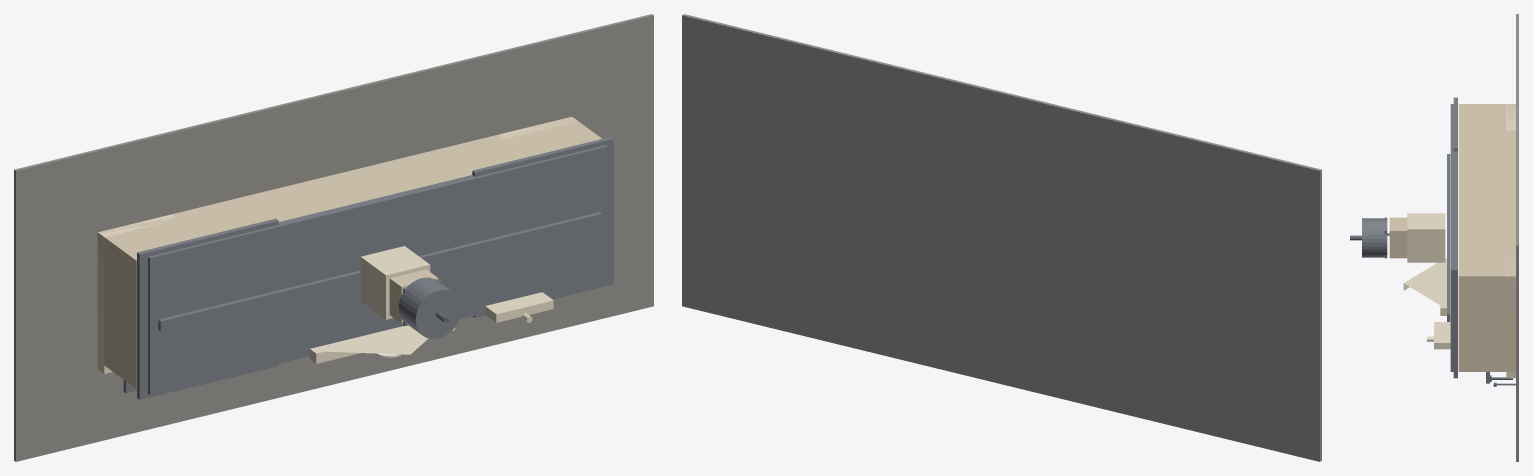
Rendered from east-london-railway-station-1950-pastport.glb.
The picture shows the model from 3 angles, left to right: view 1: azimuth 30°, elevation 25°; view 2: azimuth 150°, elevation 25°; view 3: azimuth 270°, elevation 25°; orthographic projection. The views are drawn at different scales.
Visible parts, largest first — view 1: Ground, Main roof, Main station, Roof ridge, Left roof, Tower dome, Clock tower, Right roof, Left entrance block, Pediment triangle, Side pediment, Pediment base (+1 smaller); view 2: Ground; view 3: Main station, Clock tower, Main roof, Ground, Pediment triangle, Tower dome, Right roof, Bell tower base, Roof ridge, Side pediment, Pediment base, Right entrance block (+2 smaller).
Boxes of the visible parts, x1,y1,x2,y2 form: Ground: (14,14,653,461); Main roof: (148,145,607,394); Main station: (97,117,601,388); Roof ridge: (158,212,602,331); Left roof: (137,218,278,399); Tower dome: (398,277,461,338); Clock tower: (360,246,430,319); Right roof: (472,137,613,317); Left entrance block: (97,214,176,373); Pediment triangle: (314,330,428,354); Side pediment: (484,292,553,322); Pediment base: (309,325,455,363); Ground: (682,14,1321,461); Main station: (1458,104,1515,371); Clock tower: (1407,213,1445,262); Main roof: (1450,104,1457,371); Ground: (1516,14,1518,461); Pediment triangle: (1403,262,1445,307); Tower dome: (1362,218,1387,257); Right roof: (1453,219,1457,378); Bell tower base: (1389,217,1407,258); Roof ridge: (1447,154,1450,321); Side pediment: (1434,322,1450,349); Pediment base: (1440,258,1446,315); Right entrance block: (1506,250,1515,378).
Bounding box in the file's own units: 78 × 34 × 24.05.
